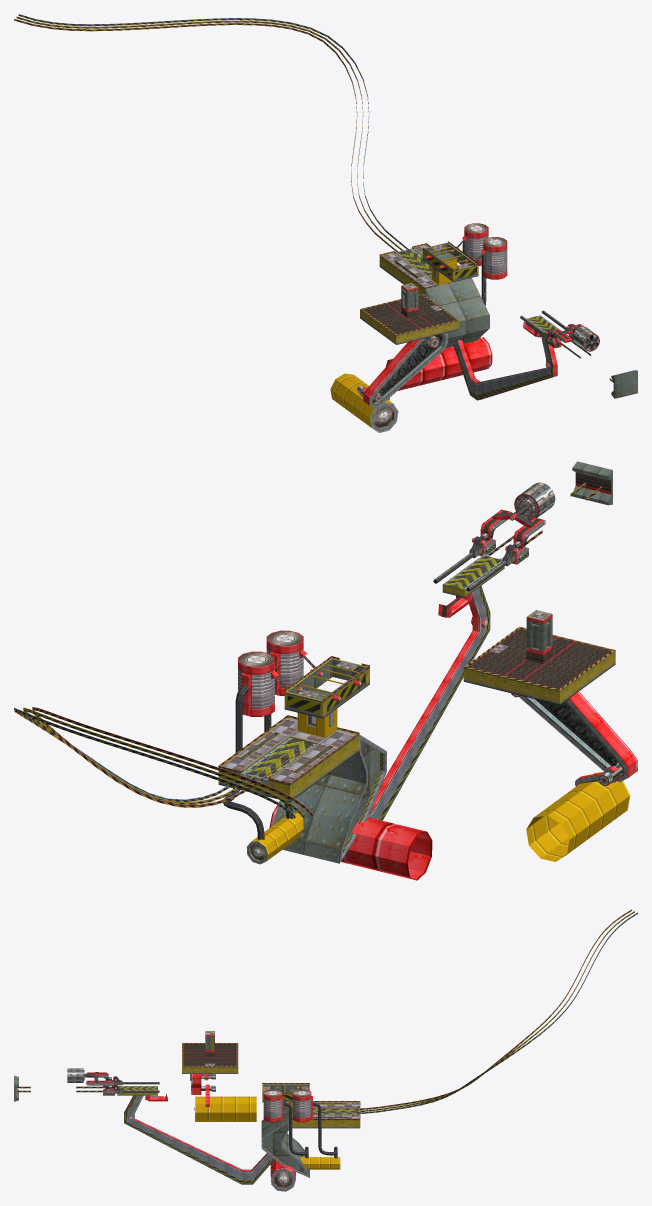
The model's file is railcanyon4.obj.
3 renders of one model, top to bottom at view 1: azimuth 30°, elevation 25°; view 2: azimuth 150°, elevation 25°; view 3: azimuth 270°, elevation 25°, orthographic. The views are drawn at different scales.
Visible parts, largest first — view 1: Object_2, obj1, obj2; view 2: Object_2, obj1, obj2; view 3: Object_2, obj1, obj2.
Part boxes in pixels (<box>): Object_2: <box>14,14,637,432</box>; obj1: <box>381,223,561,340</box>; obj2: <box>363,250,472,334</box>; Object_2: <box>14,461,637,880</box>; obj1: <box>221,554,552,782</box>; obj2: <box>240,628,610,772</box>; Object_2: <box>14,909,637,1191</box>; obj1: <box>117,1031,359,1122</box>; obj2: <box>183,1043,236,1065</box>.
Size of the model in its own units: 1480 by 1324 by 3868.
49 materials, 47 textured.
